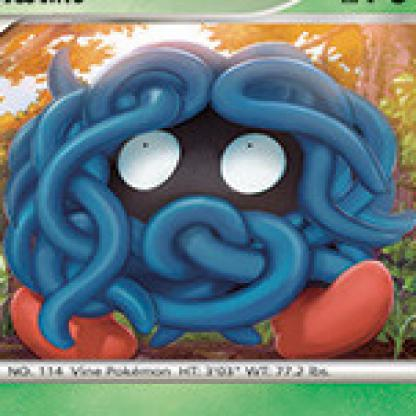Tangela: (1, 38, 414, 363)
